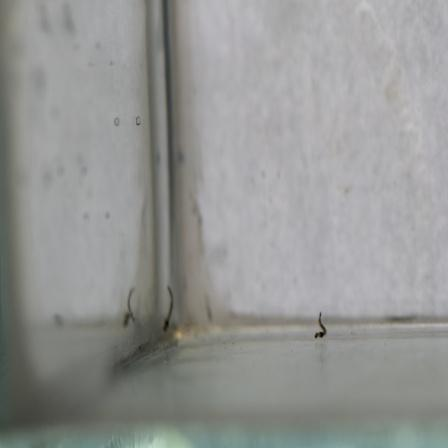Jentik-Nyamuk: (156, 281, 179, 337), (305, 305, 329, 342)
